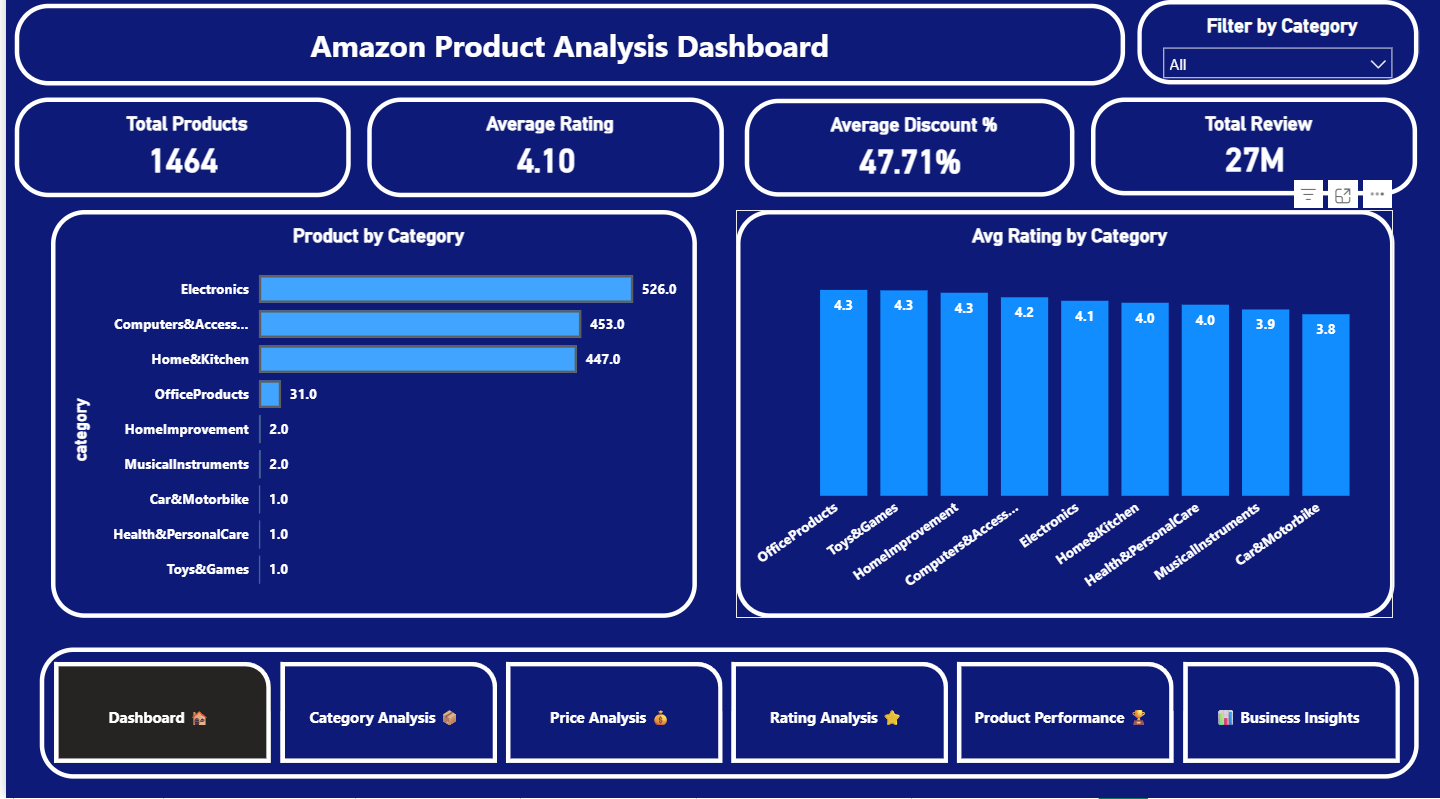

What the dashboard file says about the page in this screenshot:
{"tool":"powerbi","page":{"name":"Dashboard 🏚️","canvas":[1280,720],"ordinal":0},"visuals":[{"type":"textbox","title":"Amazon Products Analysis Dashboard","box":[8.1,12.1,988.4,72.6],"z":0},{"type":"card","title":"Total Products","fields":{"Values":["CountNonNull(amazon_db amazon_products.product_id)"]},"box":[8.1,95.6,298.9,88.9],"z":1000},{"type":"card","title":"Average Discount %","fields":{"Values":["Avg(amazon_db amazon_products.discount_percentage)"]},"box":[658.3,96.9,293.5,87.5],"z":2000},{"type":"card","title":"Total Review","fields":{"Values":["Sum(amazon_db amazon_products.rating_count)"]},"box":[966.6,95.6,290.8,87.5],"z":3000},{"type":"card","title":"Average Rating","fields":{"Values":["Avg(amazon_db amazon_products.rating)"]},"box":[321.8,95.6,317.7,88.9],"z":4000},{"type":"slicer","title":"Filter by Category","fields":{"Values":["amazon_db amazon_products.category"]},"box":[1007.3,9.4,250.1,75.3],"z":5000},{"type":"clusteredBarChart","title":"Product by Category","fields":{"Category":["amazon_db amazon_products.category"],"Y":["CountNonNull(amazon_db amazon_products.product_id)"]},"box":[40.3,196.3,575.6,363.1],"z":6000},{"type":"clusteredColumnChart","title":"Avg Rating by Category","fields":{"Category":["amazon_db amazon_products.category"],"Y":["Avg(amazon_db amazon_products.rating)"]},"box":[649.6,196.3,586.3,363.1],"z":7000},{"type":"pageNavigator","box":[29.6,585,1227.8,117],"z":7001}]}

Visuals, with their boxes in screenshot pixels (x1, y1, x2, y2), scaled from the page's 1280x720 canvas onto the 1440x799 screenshot:
"Amazon Products Analysis Dashboard" textbox: select_region(9, 13, 1121, 94)
"Total Products" card: select_region(9, 106, 345, 205)
"Average Discount %" card: select_region(741, 108, 1071, 205)
"Total Review" card: select_region(1087, 106, 1415, 203)
"Average Rating" card: select_region(362, 106, 719, 205)
"Filter by Category" slicer: select_region(1133, 10, 1415, 94)
"Product by Category" clusteredBarChart: select_region(45, 218, 693, 621)
"Avg Rating by Category" clusteredColumnChart: select_region(731, 218, 1390, 621)
pageNavigator: select_region(33, 649, 1415, 779)
